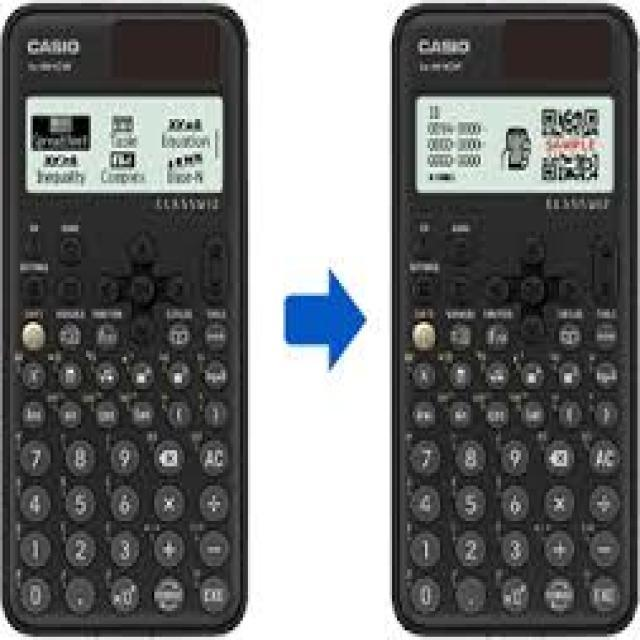Calculator: (376, 0, 640, 640)
